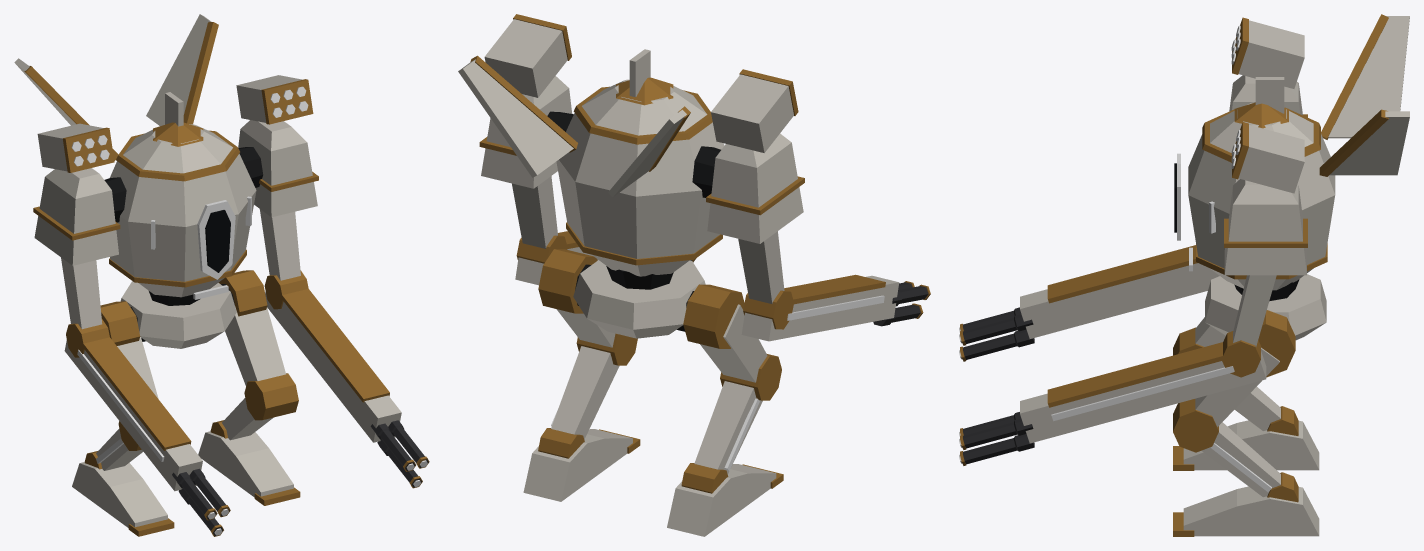
Rendered from striker_t3.glb.
3 renders of one model, left to right at view 1: azimuth 30°, elevation 25°; view 2: azimuth 150°, elevation 25°; view 3: azimuth 270°, elevation 25°, orthographic. The views are drawn at different scales.
Visible parts, largest first — view 1: body; view 2: body; view 3: body.
Boxes of the visible parts, <box> form: body: <box>14,14,429,536</box>; body: <box>458,14,930,536</box>; body: <box>959,14,1409,536</box>.
Size of the model in its own units: 4.09 by 6.38 by 6.02.
